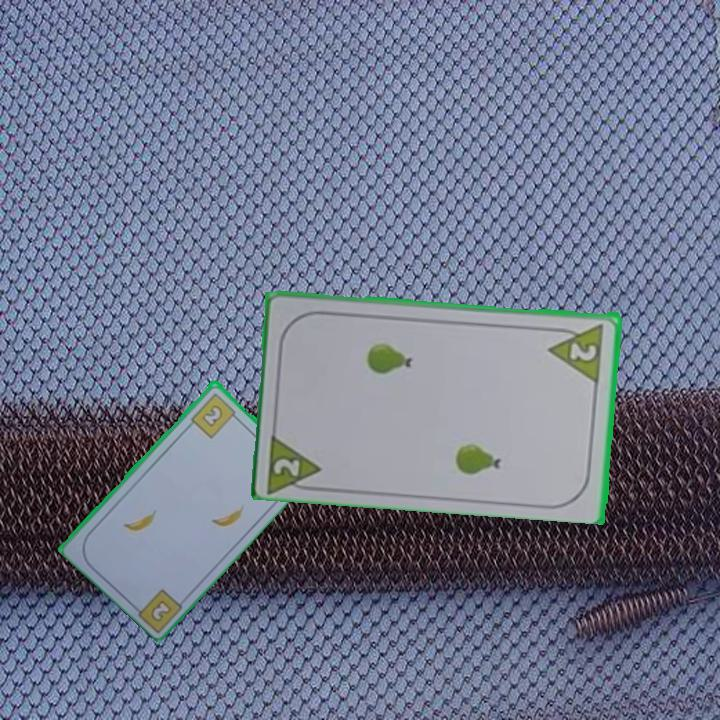2b: (187, 389, 242, 441), (149, 598, 172, 623)
2p: (263, 427, 326, 494), (546, 319, 607, 383)
